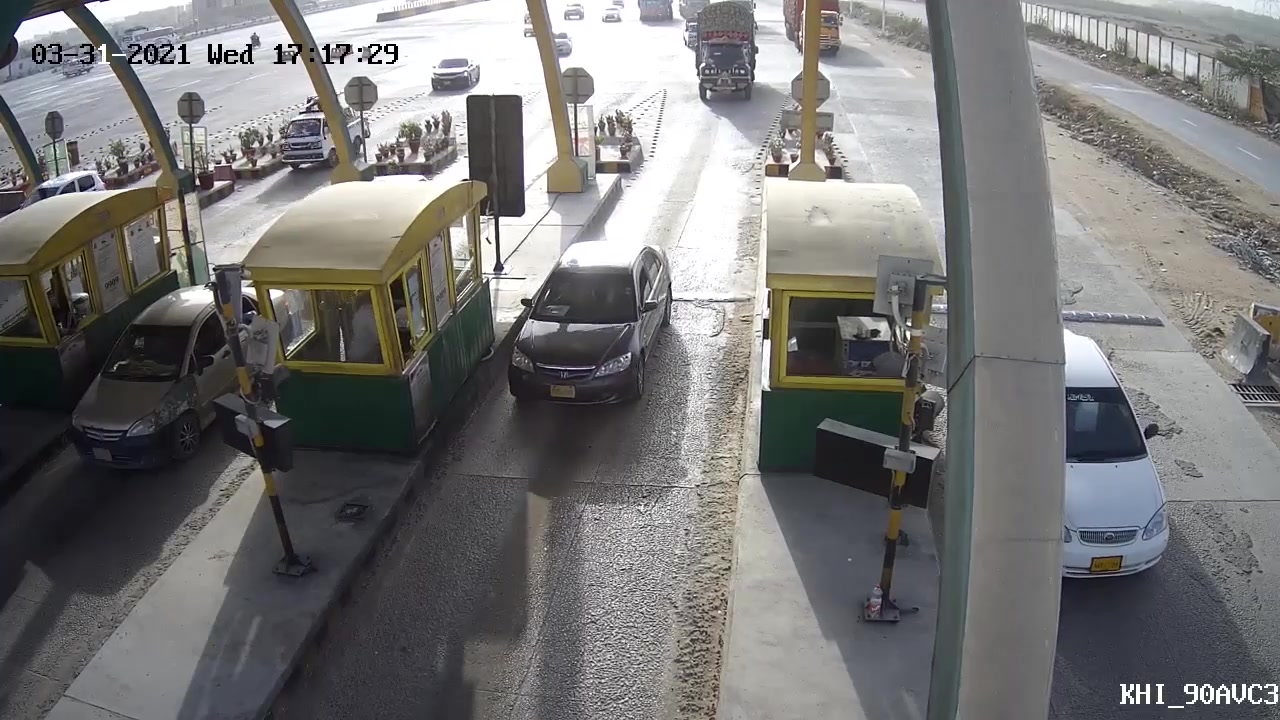F1: (495, 231, 681, 425)
